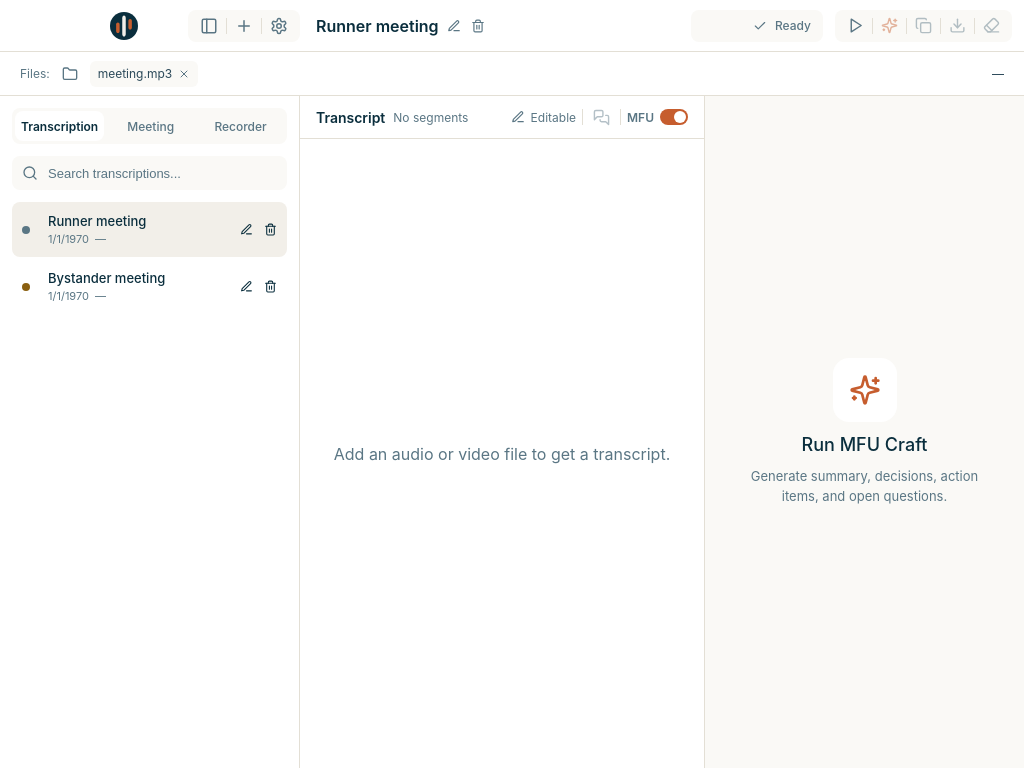
Test: App — a run that ends after the user has moved on › does not pull the workspace back when the run succeeds elsewhere
The width and height of the screenshot is (1024, 768).
Check: the heading "Runner meeting" is shown, box [316,16,439,36]
Click the button named "Transcribe" at point(856, 26), box [843,13,868,38]
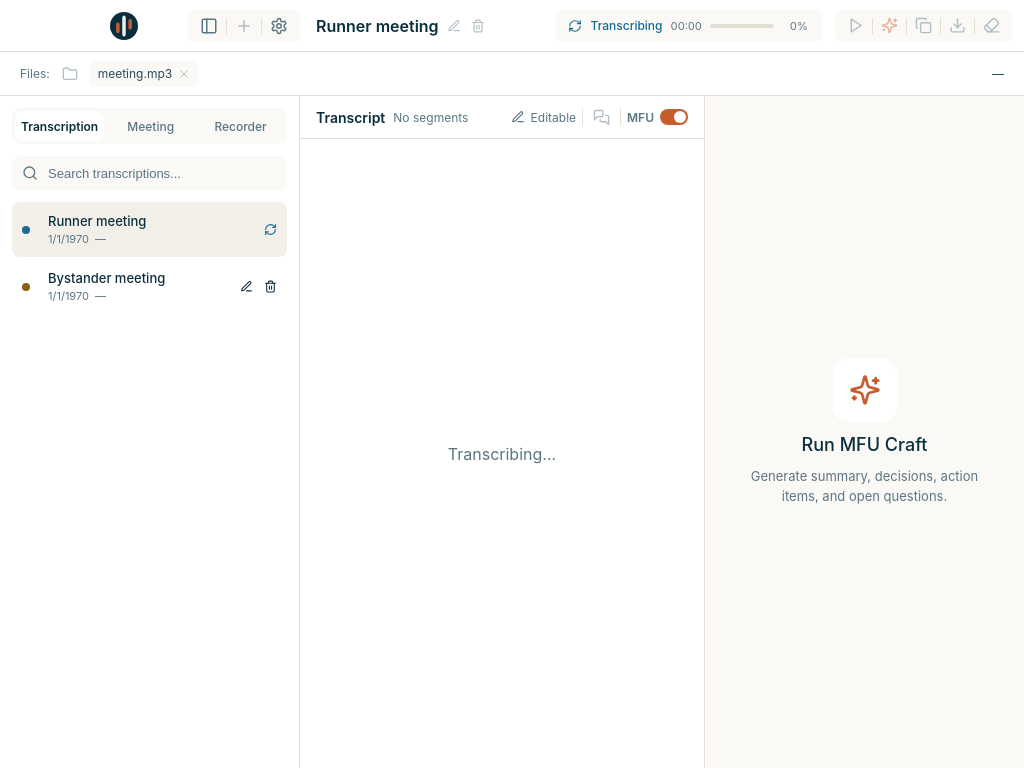
Check: the picture named "Transcribing" is shown, box [16,220,36,240]
Click the button "Bystander meeting 1/1/1970 —" at point(132, 286), box [42,269,223,304]
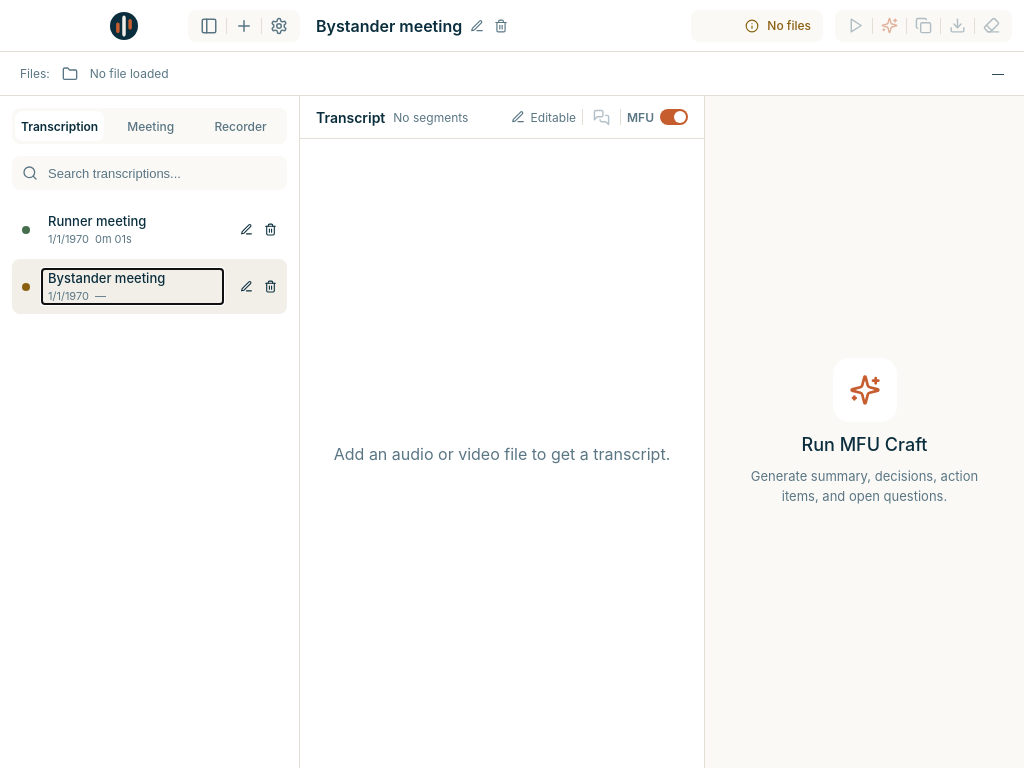
Check: the picture named "Finished" is shown, box [16,220,36,240]
Check: the heading "Bystander meeting" is shown, box [316,16,462,36]
Check: the message reads "No files", box [767,18,811,33]
